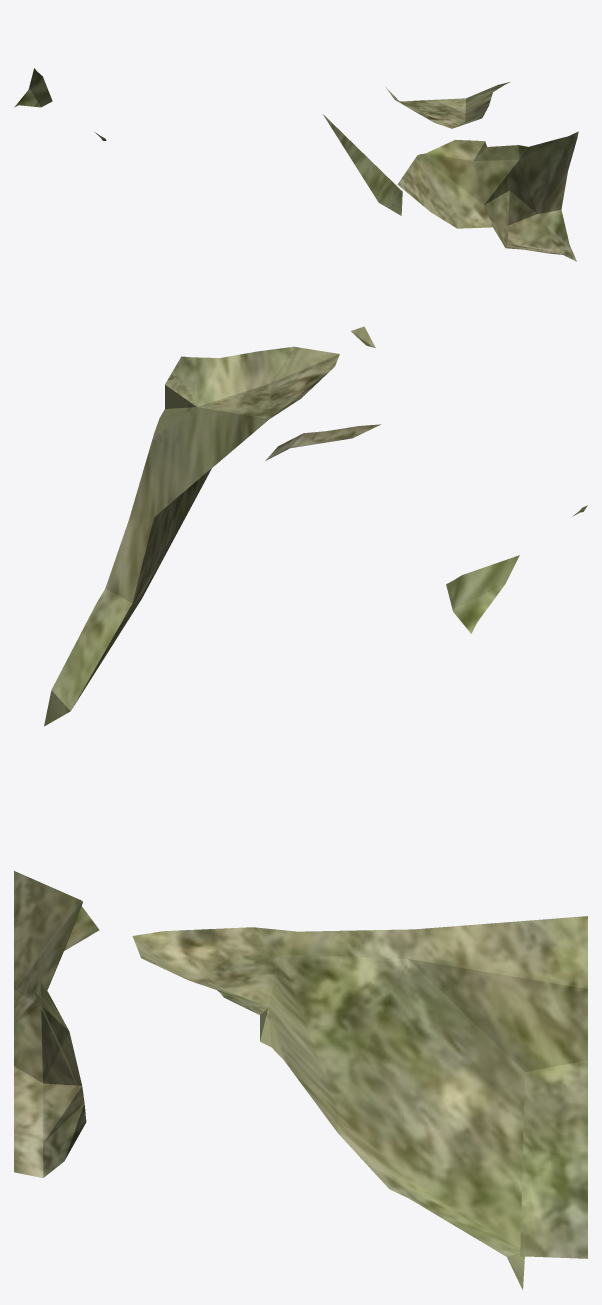
3 views of the same model, one above another, from view 1: azimuth 30°, elevation 25°; view 2: azimuth 150°, elevation 25°; view 3: azimuth 270°, elevation 25° (orthographic). The views are drawn at different scales.
Bounding box in the file's own units: 2.95 × 1.66 × 2.95.
Materials: 2 (2 with a texture image).
